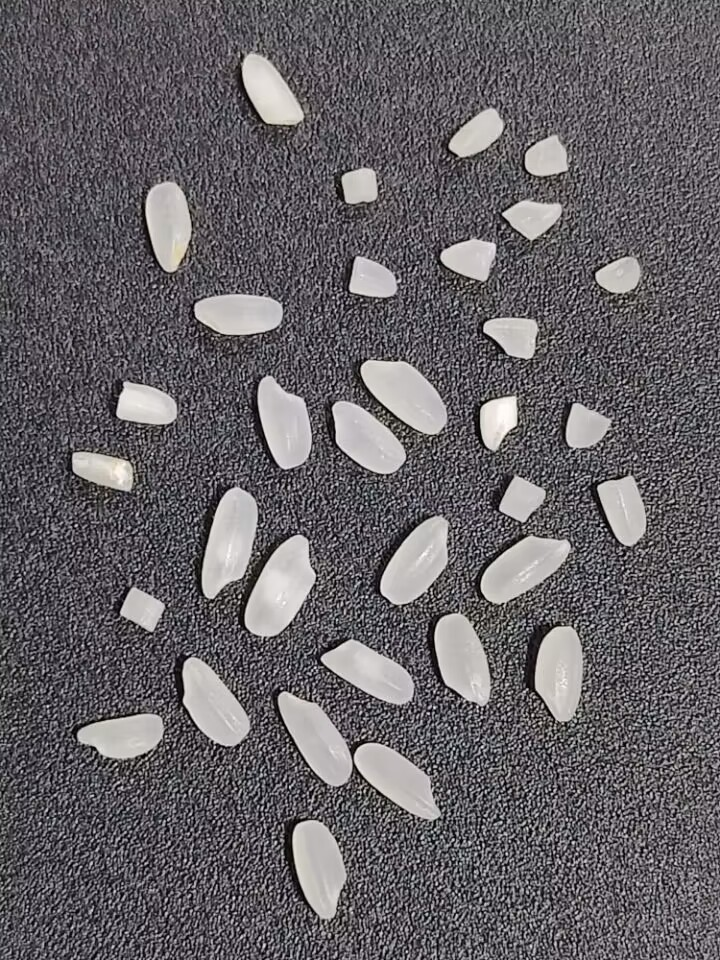broken: (594, 469, 654, 554), (111, 378, 184, 430), (65, 447, 141, 494), (434, 236, 500, 290), (474, 387, 528, 453), (557, 400, 624, 453), (498, 195, 569, 245), (491, 472, 553, 527), (477, 311, 546, 360), (446, 105, 508, 159), (112, 582, 173, 631), (345, 254, 404, 304), (518, 131, 574, 182), (589, 250, 652, 295), (334, 164, 384, 213)
rice: (237, 530, 324, 641), (351, 736, 446, 832), (268, 685, 354, 790), (369, 511, 460, 609), (354, 352, 453, 437), (469, 532, 583, 603), (169, 654, 252, 751), (196, 482, 260, 602), (316, 633, 418, 706), (249, 368, 318, 475), (288, 812, 353, 924), (527, 619, 594, 727), (322, 398, 413, 477), (237, 45, 310, 133), (433, 607, 491, 710), (190, 289, 286, 344), (141, 179, 194, 275), (74, 712, 165, 760)
